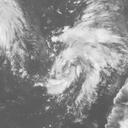cyclone: (55, 29, 116, 88)
